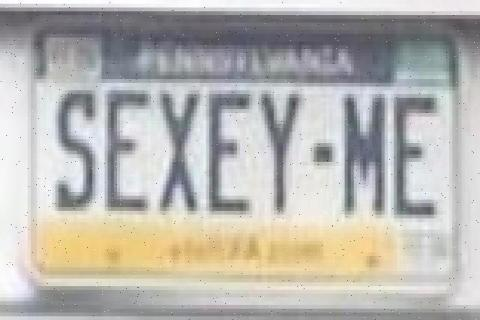LicensePlate: (15, 13, 466, 316)
